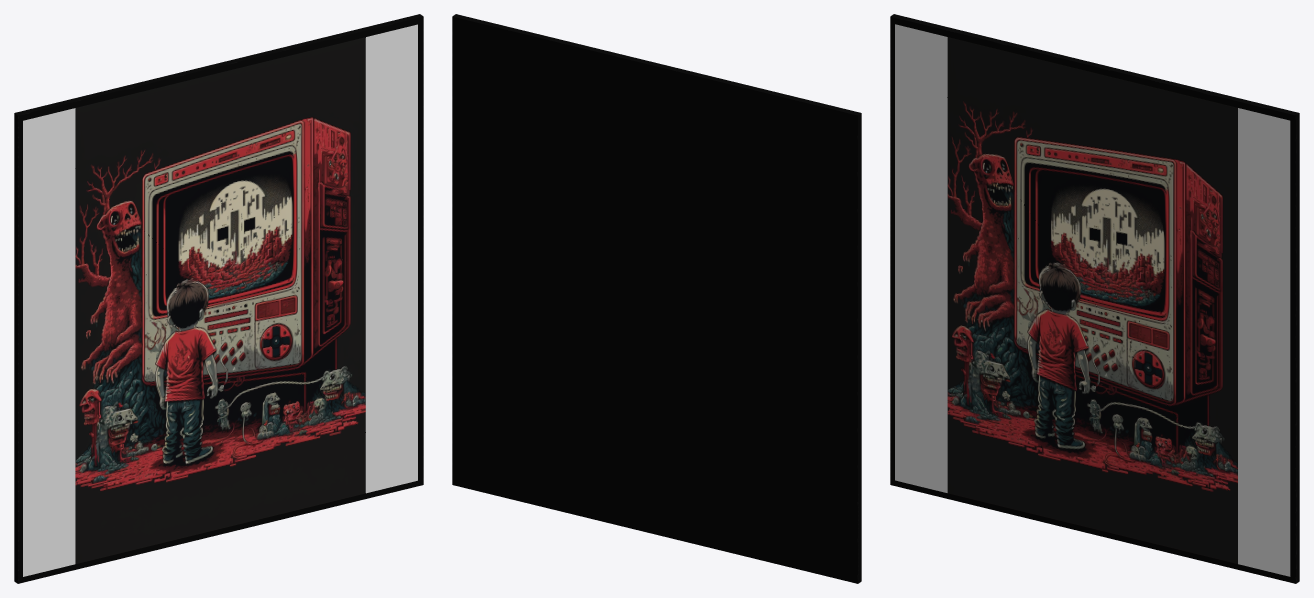
Rendered from Kid7.glb.
3 renders of one model, left to right at view 1: azimuth 30°, elevation 25°; view 2: azimuth 150°, elevation 25°; view 3: azimuth 330°, elevation 25°, orthographic.
Parts seen in each view (by area): view 1: mesh_id1, node_id33; view 2: node_id33; view 3: mesh_id1, node_id33.
Boxes of the visible parts, x1,y1,x2,y2 form: mesh_id1: [23, 24, 417, 576]; node_id33: [14, 14, 423, 583]; node_id33: [452, 14, 861, 583]; mesh_id1: [895, 24, 1290, 576]; node_id33: [890, 14, 1299, 583].
Bounding box in the file's own units: 0.8851 × 0.9764 × 0.0138.
2 materials, 2 textured.
